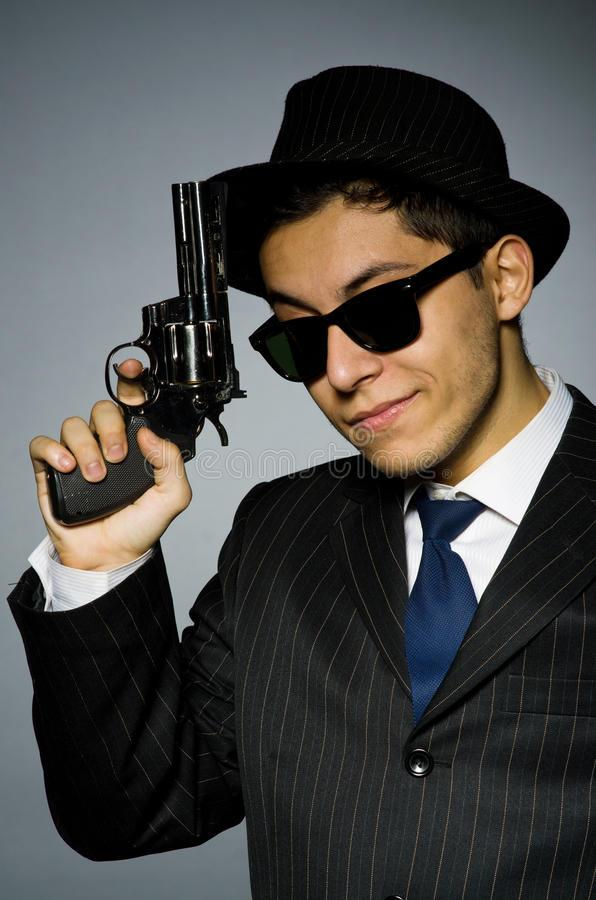criminal: (8, 62, 596, 900)
weapon: (41, 176, 254, 532)
